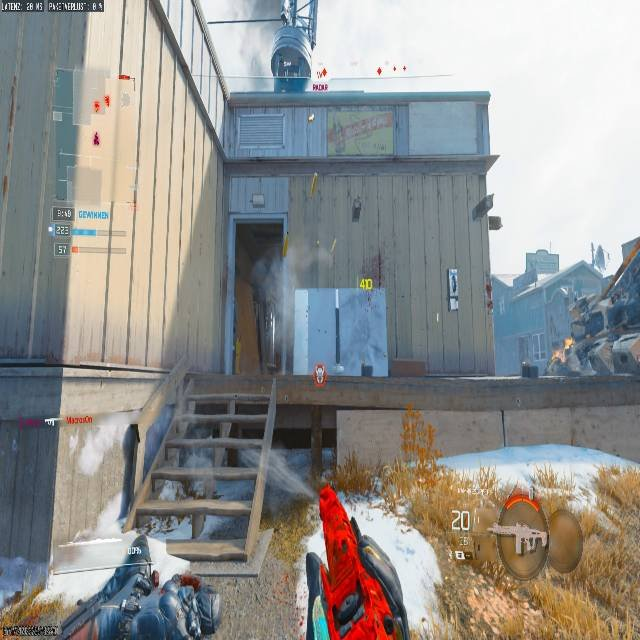player: (287, 487, 446, 639), (77, 534, 221, 639)
